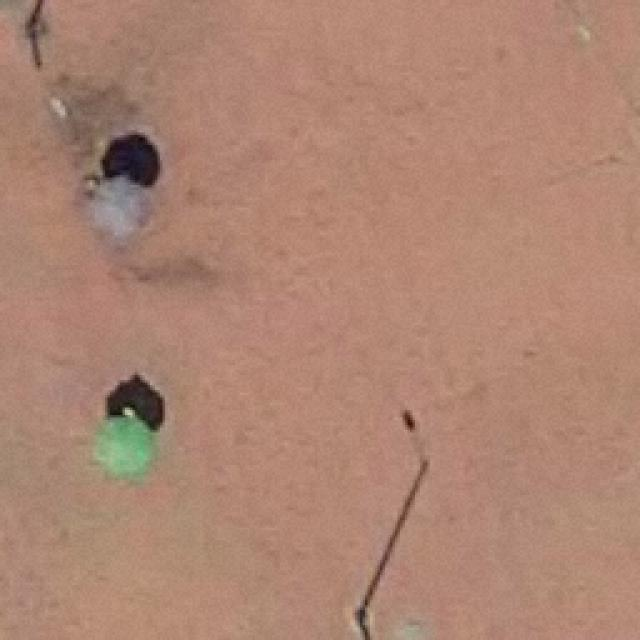vendedor_ambulante: (90, 409, 164, 483), (86, 171, 158, 245)
